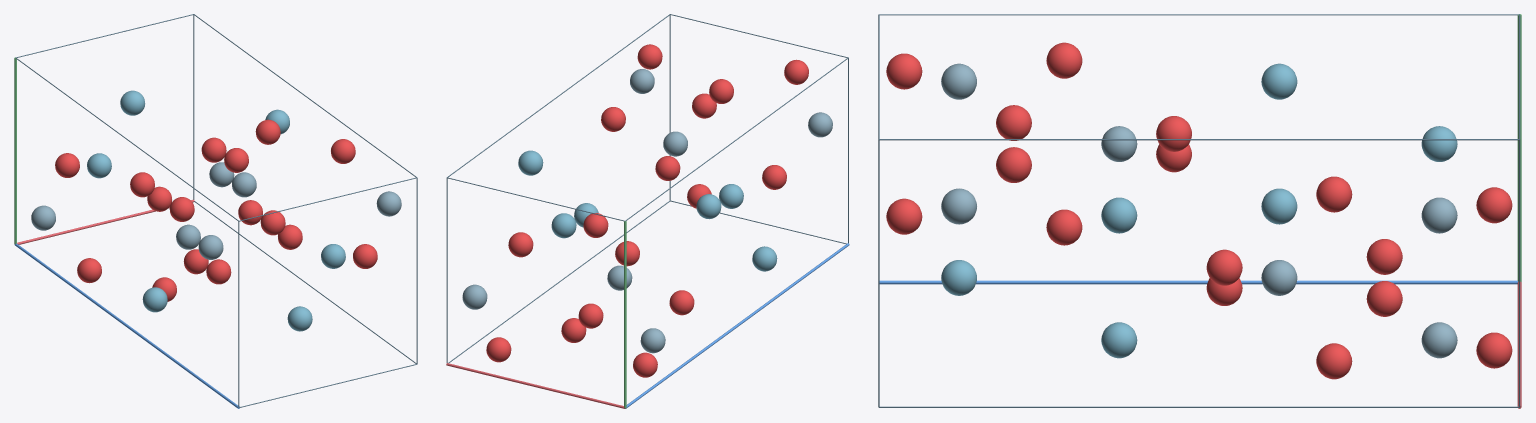
The model's file is scheelite.glb.
3 views of the same model, side by side, from view 1: azimuth 30°, elevation 25°; view 2: azimuth 150°, elevation 25°; view 3: azimuth 270°, elevation 25° (orthographic). The views are drawn at different scales.
Visible parts, largest first — view 1: O · O · 1 (×15), Ô mạng và các trục a, b, c, W · W · 1 (×6), Ca · Ca · 1 (×5); view 2: O · O · 1 (×15), Ô mạng và các trục a, b, c, W · W · 1 (×6), Ca · Ca · 1 (×5); view 3: O · O · 1 (×16), Ô mạng và các trục a, b, c, Ca · Ca · 1 (×6), W · W · 1 (×6).
Boxes of the visible parts, box(x1,y1,x2,y2) form: O · O · 1 (×15): box(55, 119, 377, 284); Ô mạng và các trục a, b, c: box(14, 14, 417, 408); W · W · 1 (×6): box(31, 162, 401, 259); Ca · Ca · 1 (×5): box(87, 90, 345, 331); O · O · 1 (×15): box(486, 44, 808, 377); Ô mạng và các trục a, b, c: box(446, 14, 849, 408); W · W · 1 (×6): box(462, 69, 832, 353); Ca · Ca · 1 (×5): box(518, 150, 777, 271); O · O · 1 (×16): box(886, 42, 1512, 379); Ô mạng và các trục a, b, c: box(878, 14, 1521, 408); Ca · Ca · 1 (×6): box(941, 63, 1457, 358); W · W · 1 (×6): box(941, 63, 1457, 358).
Size of the model in its own units: 5.88 by 5.79 by 11.42.
